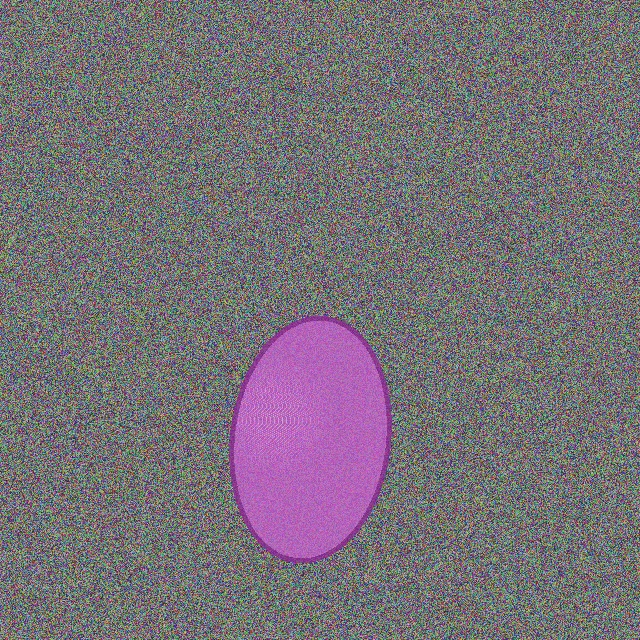lens: (231, 318, 389, 560)
